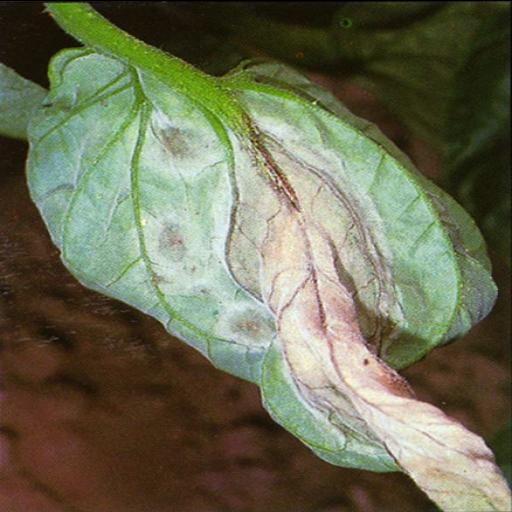Late Blight: (29, 46, 512, 512)
